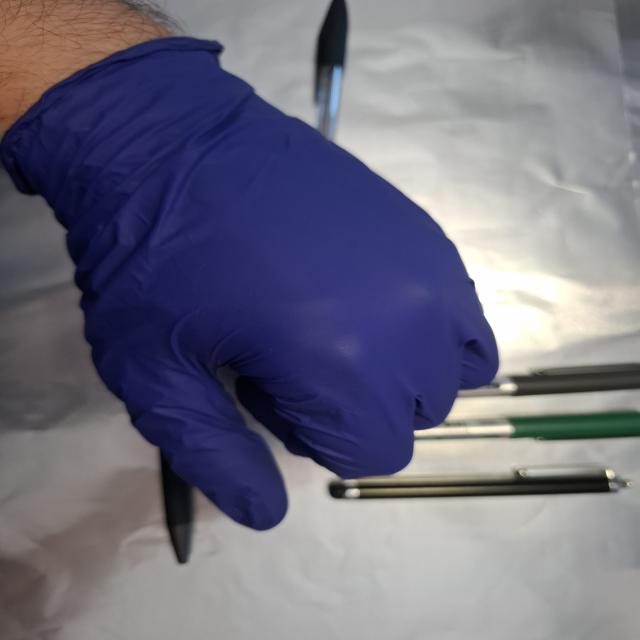glove_on: (6, 35, 503, 533)
